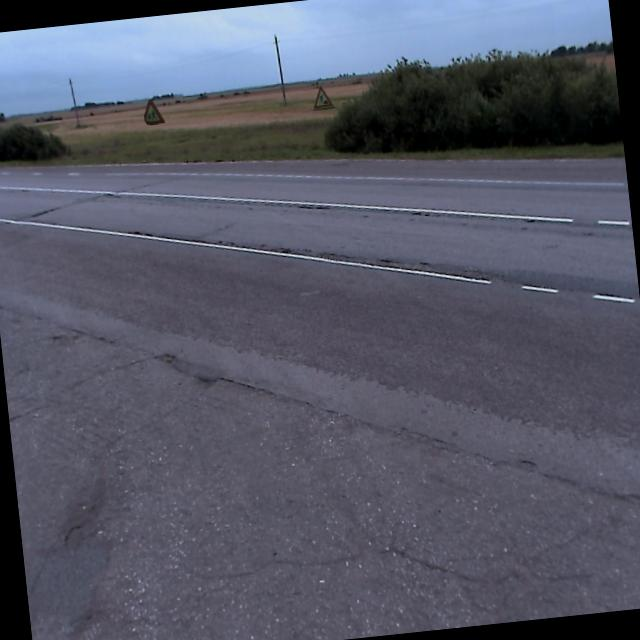road: (0, 157, 640, 640)
